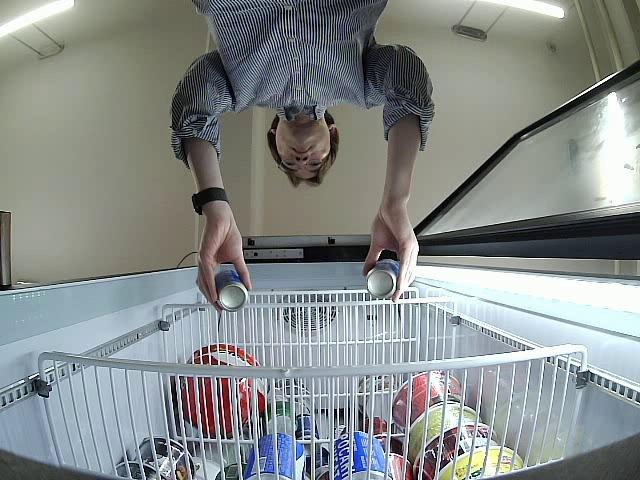00_hand: (192, 220, 252, 313), (360, 215, 419, 304)
15_letsbe: (213, 268, 250, 314), (365, 260, 400, 294)
